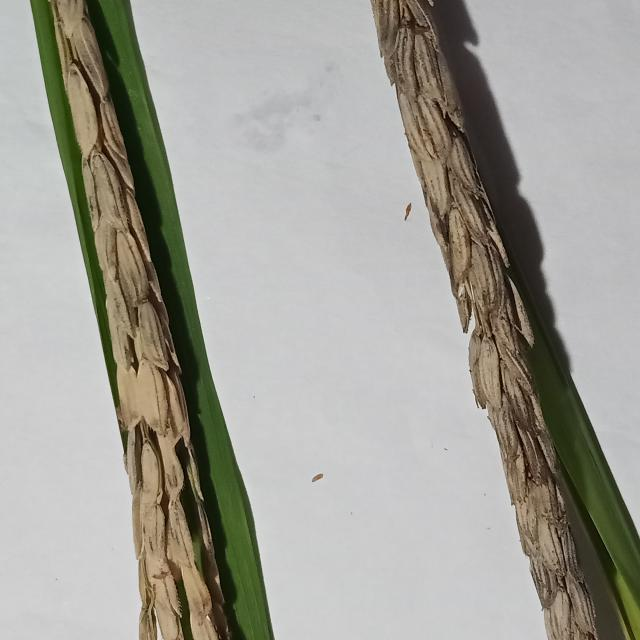Neck_Blast: (376, 0, 640, 640), (52, 2, 237, 640)
